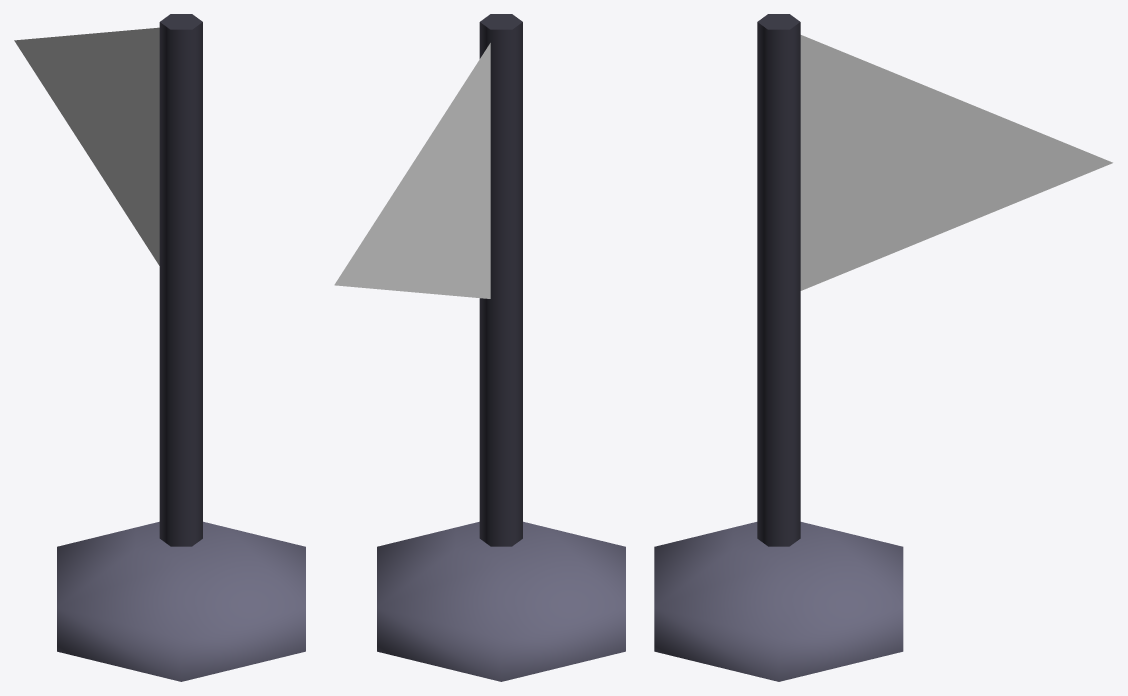
The model's file is Flag.fbx.
3 views of the same model, side by side, from view 1: azimuth 30°, elevation 25°; view 2: azimuth 150°, elevation 25°; view 3: azimuth 270°, elevation 25° (orthographic).
Parts seen in each view (by area): view 1: Cylinder.001, Cylinder, Plane.003; view 2: Cylinder.001, Cylinder, Plane.003; view 3: Plane.003, Cylinder.001, Cylinder.
Boxes of the visible parts, bbox=[...] form: Cylinder.001: bbox=[57, 521, 305, 681]; Cylinder: bbox=[159, 14, 202, 546]; Plane.003: bbox=[14, 27, 159, 265]; Cylinder.001: bbox=[377, 521, 625, 681]; Cylinder: bbox=[479, 14, 522, 546]; Plane.003: bbox=[334, 43, 490, 298]; Plane.003: bbox=[800, 35, 1112, 290]; Cylinder.001: bbox=[654, 522, 903, 681]; Cylinder: bbox=[757, 14, 800, 546].
Bounding box in the file's own units: 2 × 4.6 × 3.19.
2 materials, 1 textured.
